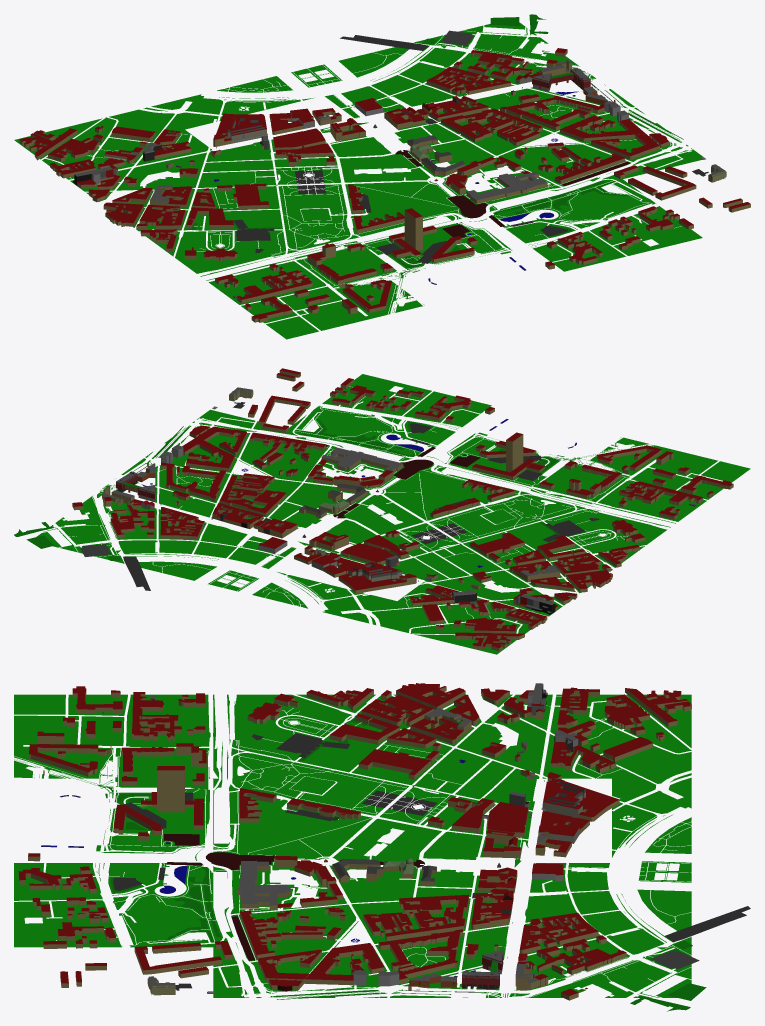
The picture shows the model from 3 angles, top to bottom: view 1: azimuth 30°, elevation 25°; view 2: azimuth 150°, elevation 25°; view 3: azimuth 270°, elevation 25°; orthographic projection. The views are drawn at different scales.
Parts seen in each view (by area): view 1: SurfaceArea799, SurfaceArea802, SurfaceArea794, SurfaceArea795, SurfaceArea796, SurfaceArea803, SurfaceArea804, SurfaceArea800, SurfaceArea801, SurfaceArea805, SurfaceArea806, SurfaceArea797 (+13 smaller); view 2: SurfaceArea799, SurfaceArea802, SurfaceArea794, SurfaceArea795, SurfaceArea796, SurfaceArea804, SurfaceArea803, SurfaceArea800, SurfaceArea801, SurfaceArea797, SurfaceArea806, SurfaceArea805 (+12 smaller); view 3: SurfaceArea799, SurfaceArea802, SurfaceArea794, SurfaceArea795, SurfaceArea796, SurfaceArea804, SurfaceArea803, SurfaceArea800, SurfaceArea801, SurfaceArea806, SurfaceArea797, SurfaceArea798 (+22 smaller).
Part boxes in pixels (x1=…): SurfaceArea799: x1=266, y1=155, x2=465, y2=246; SurfaceArea802: x1=485, y1=179, x2=702, y2=271; SurfaceArea794: x1=206, y1=247, x2=424, y2=339; SurfaceArea795: x1=133, y1=189, x2=341, y2=280; SurfaceArea796: x1=46, y1=129, x2=258, y2=219; SurfaceArea803: x1=409, y1=122, x2=622, y2=212; SurfaceArea804: x1=325, y1=62, x2=533, y2=152; SurfaceArea800: x1=219, y1=123, x2=401, y2=187; SurfaceArea801: x1=153, y1=72, x2=313, y2=129; SurfaceArea805: x1=292, y1=38, x2=461, y2=86; SurfaceArea806: x1=549, y1=100, x2=702, y2=178; SurfaceArea797: x1=14, y1=106, x2=184, y2=163; SurfaceArea799: x1=344, y1=464, x2=546, y2=545; SurfaceArea802: x1=289, y1=374, x2=491, y2=459; SurfaceArea794: x1=547, y1=437, x2=750, y2=521; SurfaceArea795: x1=476, y1=493, x2=675, y2=571; SurfaceArea796: x1=397, y1=547, x2=590, y2=632; SurfaceArea804: x1=139, y1=485, x2=337, y2=568; SurfaceArea803: x1=221, y1=429, x2=411, y2=513; SurfaceArea800: x1=303, y1=515, x2=470, y2=580; SurfaceArea801: x1=238, y1=572, x2=396, y2=622; SurfaceArea797: x1=368, y1=601, x2=526, y2=654; SurfaceArea806: x1=136, y1=409, x2=281, y2=482; SurfaceArea805: x1=109, y1=538, x2=256, y2=591; SurfaceArea799: x1=213, y1=778, x2=412, y2=862; SurfaceArea802: x1=14, y1=863, x2=213, y2=947; SurfaceArea794: x1=14, y1=694, x2=213, y2=778; SurfaceArea795: x1=213, y1=694, x2=412, y2=778; SurfaceArea796: x1=412, y1=694, x2=611, y2=778; SurfaceArea804: x1=412, y1=863, x2=611, y2=947; SurfaceArea803: x1=213, y1=863, x2=412, y2=947; SurfaceArea800: x1=412, y1=778, x2=538, y2=862; SurfaceArea801: x1=612, y1=778, x2=691, y2=862; SurfaceArea806: x1=213, y1=947, x2=412, y2=997; SurfaceArea797: x1=612, y1=694, x2=691, y2=778; SurfaceArea798: x1=75, y1=778, x2=209, y2=860.
Size of the model in its own units: 1154 by 69.51 by 1109.
